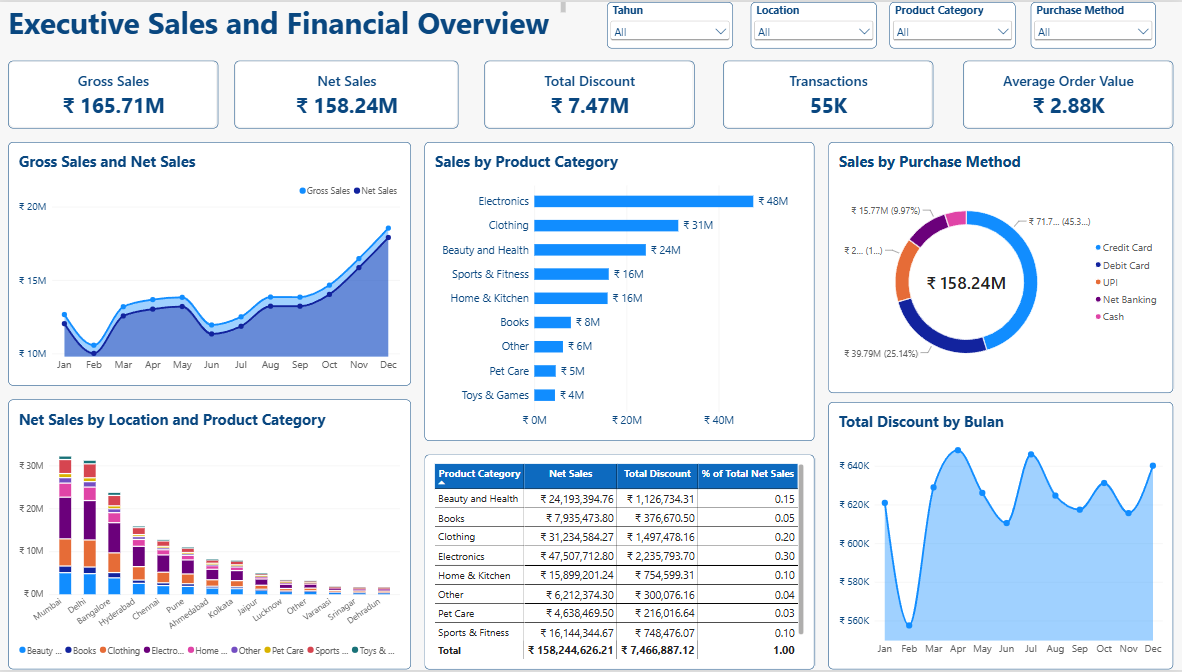

Layout of this report page (visuals, bound fields, positions):
{"tool":"powerbi","page":{"name":"Page 1","canvas":[1920,1080],"ordinal":0},"visuals":[{"type":"cardVisual","fields":{"Data":["project1_powerbi (1).Gross Sales"]},"box":[18.2,95.1,340,109.3],"z":0},{"type":"cardVisual","fields":{"Data":["project1_powerbi (1).Net Sales"]},"box":[384.5,95.1,362.2,109.3],"z":1000},{"type":"cardVisual","fields":{"Data":["project1_powerbi (1).Total Discount"]},"box":[789.2,95.1,340,109.3],"z":2000},{"type":"cardVisual","fields":{"Data":["project1_powerbi (1).Transactions"]},"box":[1175.7,95.1,340,109.3],"z":3000},{"type":"cardVisual","title":"xxx","fields":{"Data":["project1_powerbi (1).AOV"]},"box":[1564.3,95.1,340,109.3],"z":4000},{"type":"lineChart","title":"Gross Sales and Net Sales","fields":{"Category":["DimDate.Bulan"],"Y":["project1_powerbi (1).Gross Sales","project1_powerbi (1).Net Sales"]},"box":[18.2,226.6,651.6,394.6],"z":5000},{"type":"clusteredBarChart","title":"Sales by Product Category","fields":{"Category":["project1_powerbi (1).Product Category"],"Y":["project1_powerbi (1).Net Sales"]},"box":[692.1,226.6,631.4,483.6],"z":6000},{"type":"donutChart","title":"Sales by Purchase Method","fields":{"Category":["project1_powerbi (1).Purchase Method Group"],"Y":["project1_powerbi (1).Net Sales"]},"box":[1345.7,226.6,558.5,406.7],"z":7000},{"type":"columnChart","fields":{"Category":["project1_powerbi (1).Location"],"Series":["project1_powerbi (1).Product Category"],"Y":["project1_powerbi (1).Net Sales"]},"box":[18.2,643.5,651.6,437.1],"z":8000},{"type":"textbox","box":[18.2,0,902.5,52.6],"z":9000},{"type":"pivotTable","fields":{"Rows":["project1_powerbi (1).Product Category"],"Values":["project1_powerbi (1).Net Sales","project1_powerbi (1).Total Discount","project1_powerbi (1).% of Total Net Sales"]},"box":[692.1,732.5,631.4,348.1],"z":10000},{"type":"areaChart","fields":{"Category":["DimDate.Bulan"],"Y":["project1_powerbi (1).Total Discount"]},"box":[1345.7,647.6,558.5,433.1],"z":11000},{"type":"slicer","fields":{"Values":["project1_powerbi (1).Location"]},"box":[1220.2,0,204.4,74.9],"z":12000},{"type":"slicer","fields":{"Values":["project1_powerbi (1).Product Category"]},"box":[1444.9,0,204.4,74.9],"z":13000},{"type":"slicer","fields":{"Values":["project1_powerbi (1).Purchase Method"]},"box":[1673.5,0,202.4,74.9],"z":14000},{"type":"slicer","fields":{"Values":["DimDate.Tahun"]},"box":[987.5,0,204.4,74.9],"z":17000}]}

Visuals, with their boxes in screenshot pixels (x1, y1, x2, y2), scaled from the page's 1920x1080 canvas onto the 1182x672 screenshot:
cardVisual - project1_powerbi (1).Gross Sales: box=[11, 59, 221, 127]
cardVisual - project1_powerbi (1).Net Sales: box=[237, 59, 460, 127]
cardVisual - project1_powerbi (1).Total Discount: box=[486, 59, 695, 127]
cardVisual - project1_powerbi (1).Transactions: box=[724, 59, 933, 127]
"xxx" cardVisual: box=[963, 59, 1172, 127]
"Gross Sales and Net Sales" lineChart: box=[11, 141, 412, 387]
"Sales by Product Category" clusteredBarChart: box=[426, 141, 815, 442]
"Sales by Purchase Method" donutChart: box=[828, 141, 1172, 394]
columnChart - project1_powerbi (1).Location x project1_powerbi (1).Product Category: box=[11, 400, 412, 671]
textbox: box=[11, 0, 567, 33]
pivotTable - project1_powerbi (1).Product Category x project1_powerbi (1).Net Sales: box=[426, 456, 815, 671]
areaChart - DimDate.Bulan x project1_powerbi (1).Total Discount: box=[828, 403, 1172, 671]
slicer - project1_powerbi (1).Location: box=[751, 0, 877, 47]
slicer - project1_powerbi (1).Product Category: box=[890, 0, 1015, 47]
slicer - project1_powerbi (1).Purchase Method: box=[1030, 0, 1155, 47]
slicer - DimDate.Tahun: box=[608, 0, 734, 47]
